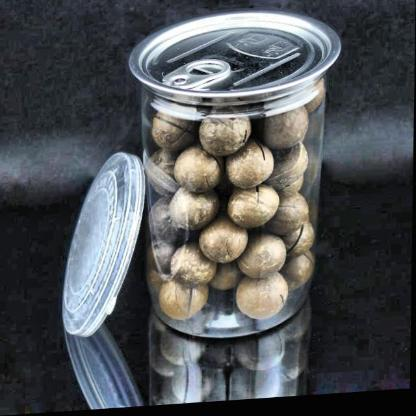Can: (128, 11, 340, 117)
